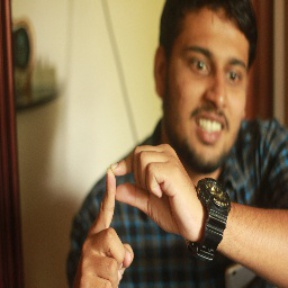P: (67, 142, 198, 288)
